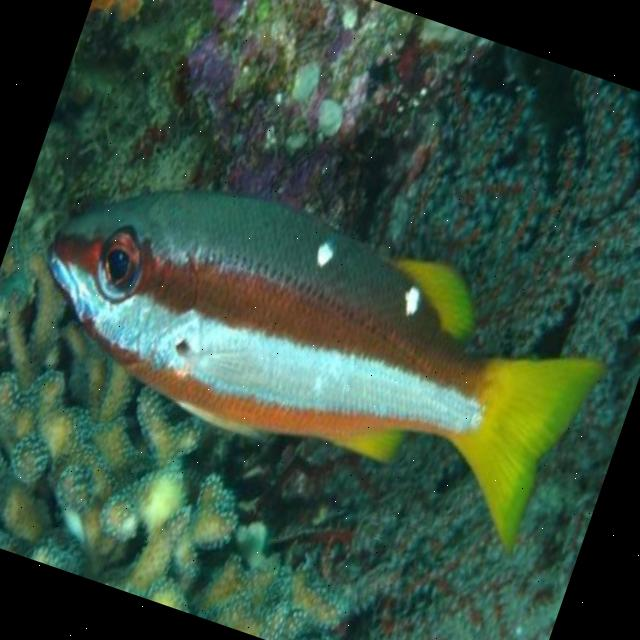ikan: (1, 130, 626, 566)
